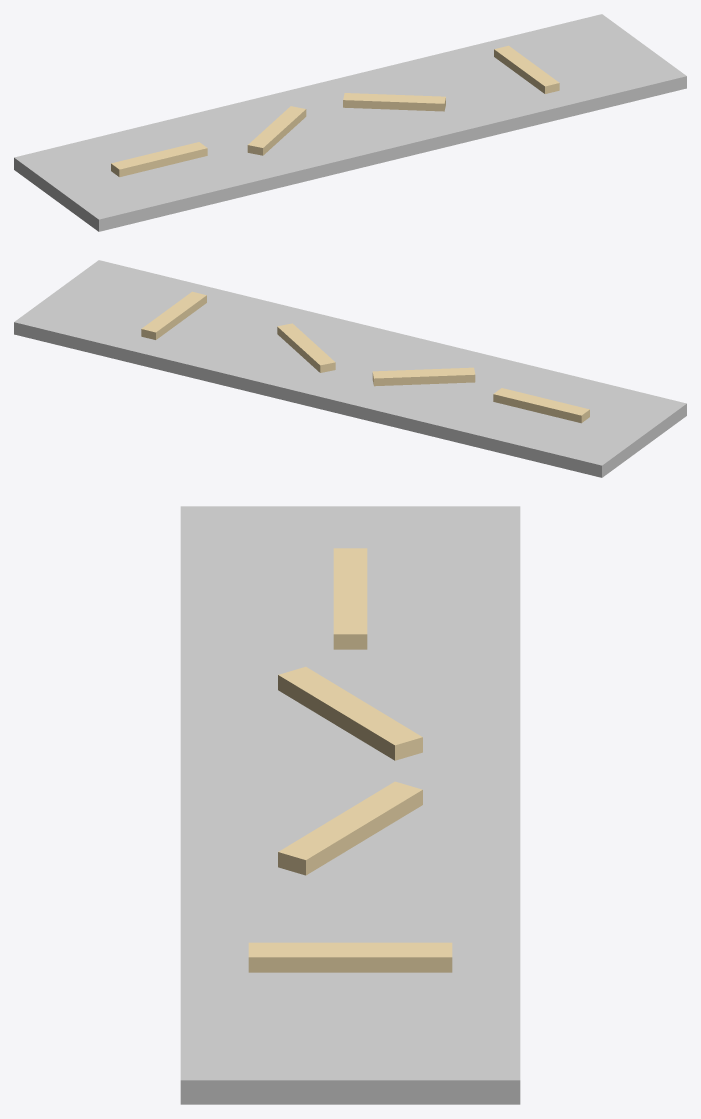
The model's file is RuneGlyph.glb.
The picture shows the model from 3 angles, top to bottom: view 1: azimuth 30°, elevation 25°; view 2: azimuth 150°, elevation 25°; view 3: azimuth 270°, elevation 25°; orthographic projection. The views are drawn at different scales.
Parts seen in each view (by area): view 1: Body, Glow; view 2: Body, Glow; view 3: Body, Glow.
Boxes of the visible parts, x1,y1,x2,y2 form: Body: [14, 14, 686, 231]; Glow: [111, 45, 559, 177]; Body: [14, 260, 686, 477]; Glow: [141, 291, 589, 423]; Body: [180, 506, 520, 1104]; Glow: [248, 548, 452, 972].
Size of the model in its own units: 4 by 0.13 by 1.
